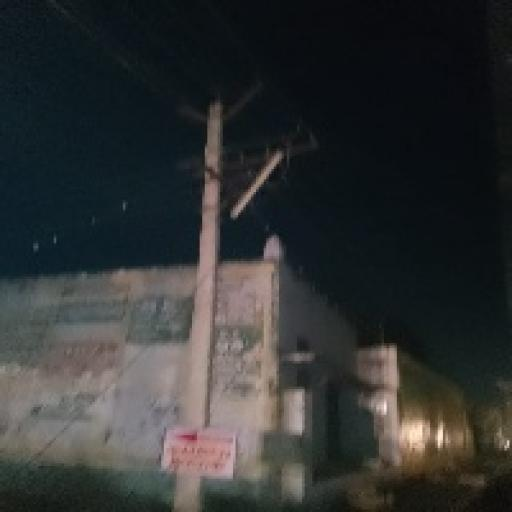Not Working: (278, 134, 322, 162)
